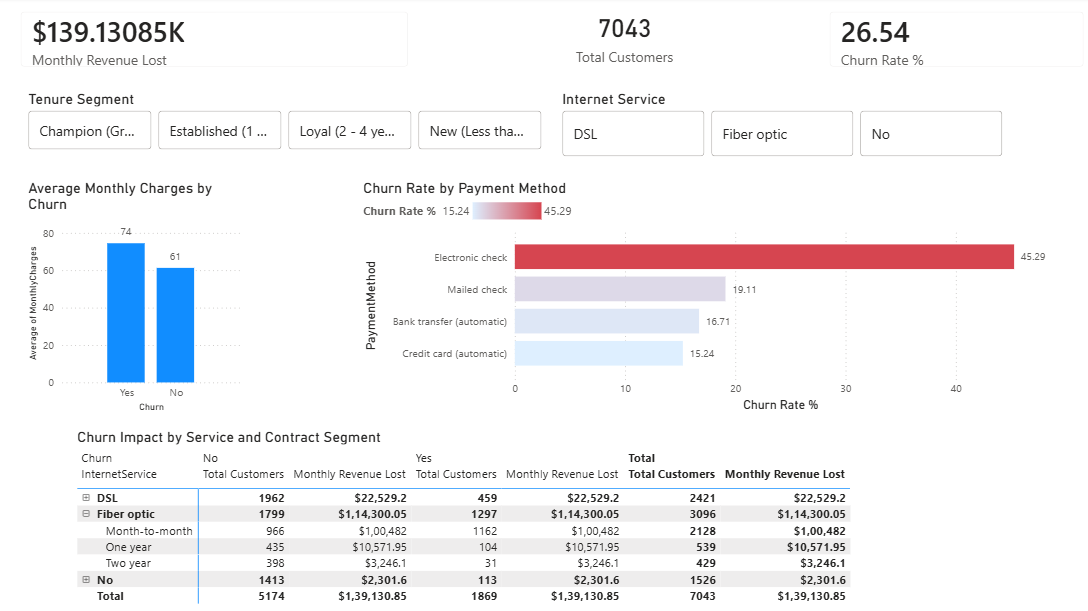

The dashboard page shown, as its layout file describes it:
{"tool":"powerbi","page":{"name":"Revenue & Payment Analysis","canvas":[1280,720],"ordinal":1},"visuals":[{"type":"clusteredColumnChart","title":"Average Monthly Charges by Churn","fields":{"Category":["churn_enriched.Churn"],"Y":["Avg(churn_enriched.MonthlyCharges)"]},"box":[31.4,211.4,256.7,275.3],"z":0},{"type":"card","fields":{"Values":["_Measure.Total Customers"]},"box":[522.7,0,412.3,89.4],"z":1000},{"type":"cardVisual","fields":{"Data":["_Measure.Churn Rate %"]},"box":[950.1,0,329.9,98.7],"z":2000},{"type":"cardVisual","fields":{"Data":["_Measure.Monthly Revenue Lost"]},"box":[10.5,0,484.4,98.7],"z":3000},{"type":"clusteredBarChart","title":"Churn Rate by Payment Method","fields":{"Category":["churn_enriched.PaymentMethod"],"Y":["_Measure.Churn Rate %"]},"box":[420.5,211.4,810.7,275.3],"z":4000},{"type":"pivotTable","title":"Churn Impact by Service and Contract Segment","fields":{"Rows":["churn_enriched.InternetService","churn_enriched.Contract"],"Columns":["churn_enriched.Churn"],"Values":["_Measure.Total Customers","_Measure.Monthly Revenue Lost"]},"box":[88.3,500.6,1045.4,210.2],"z":5000},{"type":"advancedSlicerVisual","title":"Tenure Segment","fields":{"Values":["churn_enriched.TenureSegment"]},"box":[31.4,108,608.6,74.3],"z":6000},{"type":"advancedSlicerVisual","title":"Internet Service","fields":{"Values":["churn_enriched.InternetService"]},"box":[651.6,108,523.8,82.5],"z":7000}]}

Visuals, with their boxes in screenshot pixels (x1, y1, x2, y2), scaled from the page's 1280x720 canvas onto the 1088x611 screenshot:
"Average Monthly Charges by Churn" clusteredColumnChart: <box>27,179,245,413</box>
card - _Measure.Total Customers: <box>444,0,795,76</box>
cardVisual - _Measure.Churn Rate %: <box>808,0,1087,84</box>
cardVisual - _Measure.Monthly Revenue Lost: <box>9,0,421,84</box>
"Churn Rate by Payment Method" clusteredBarChart: <box>357,179,1047,413</box>
"Churn Impact by Service and Contract Segment" pivotTable: <box>75,425,964,603</box>
"Tenure Segment" advancedSlicerVisual: <box>27,92,544,155</box>
"Internet Service" advancedSlicerVisual: <box>554,92,999,162</box>
